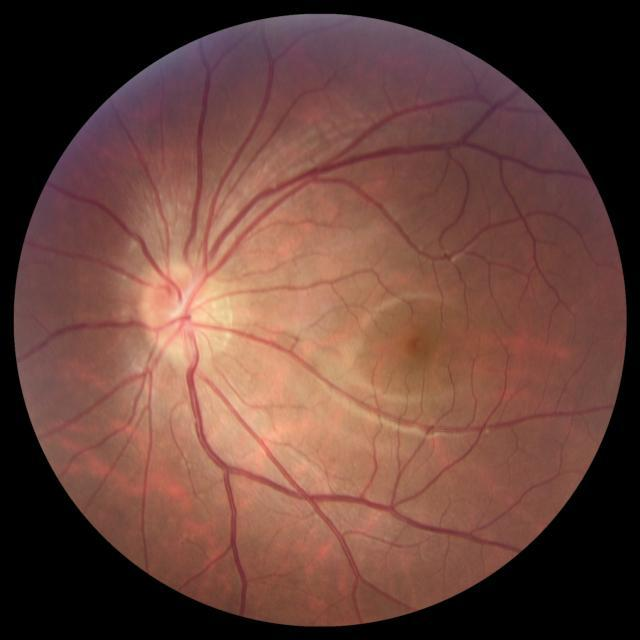OC: (170, 298, 198, 327)
OD: (137, 257, 226, 367)
